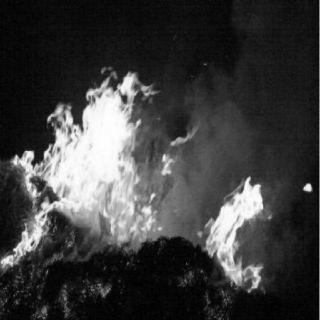Fire: (5, 54, 157, 262)
